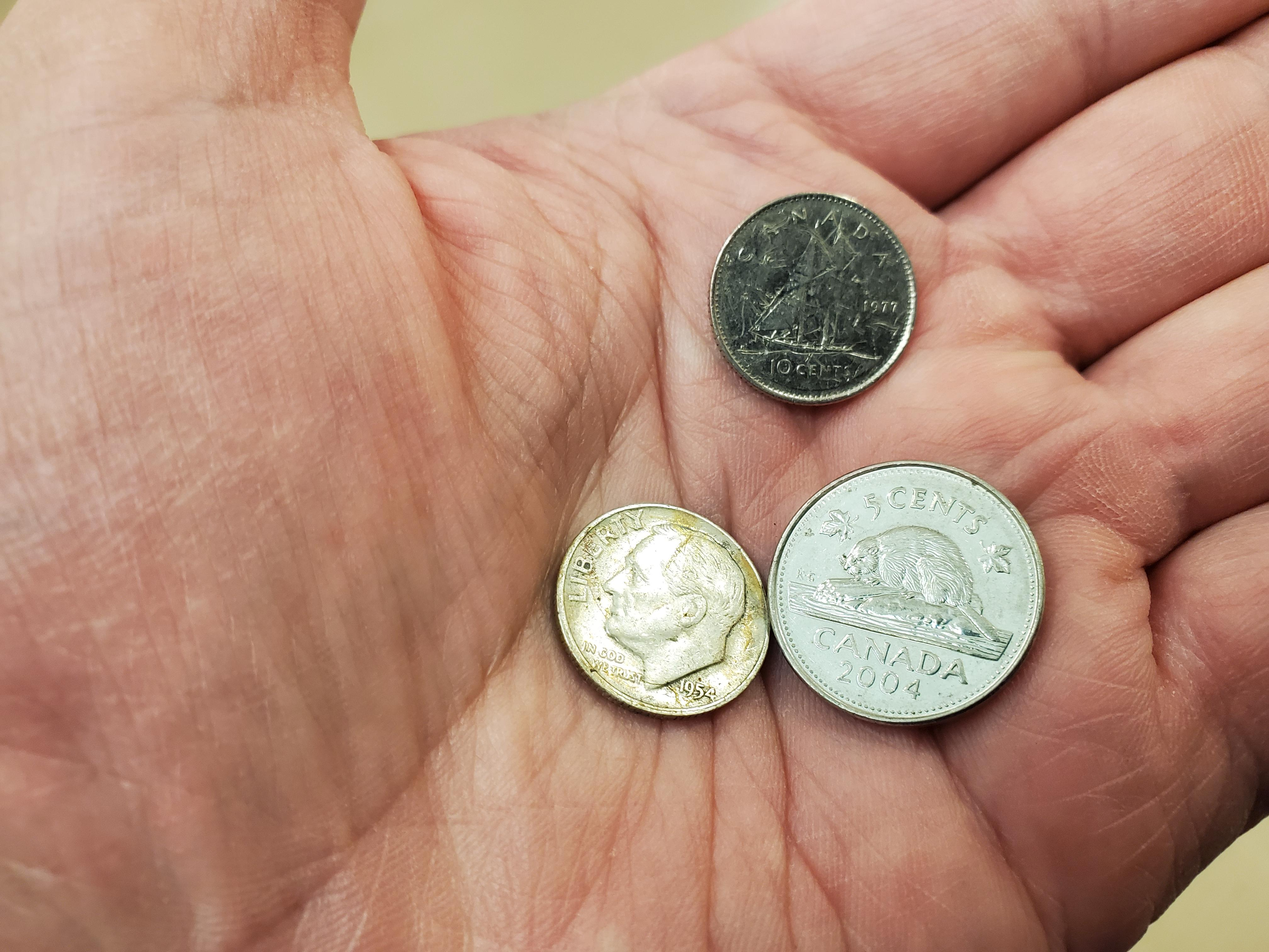coin: (769, 462, 1044, 722), (556, 505, 768, 716), (710, 193, 916, 404)
